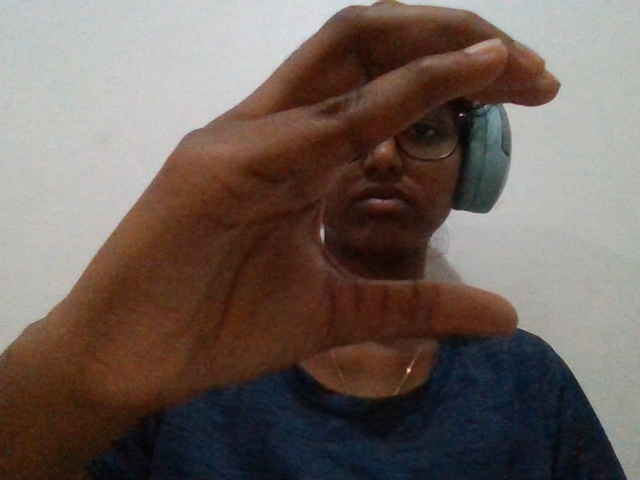C: (13, 2, 609, 463)
